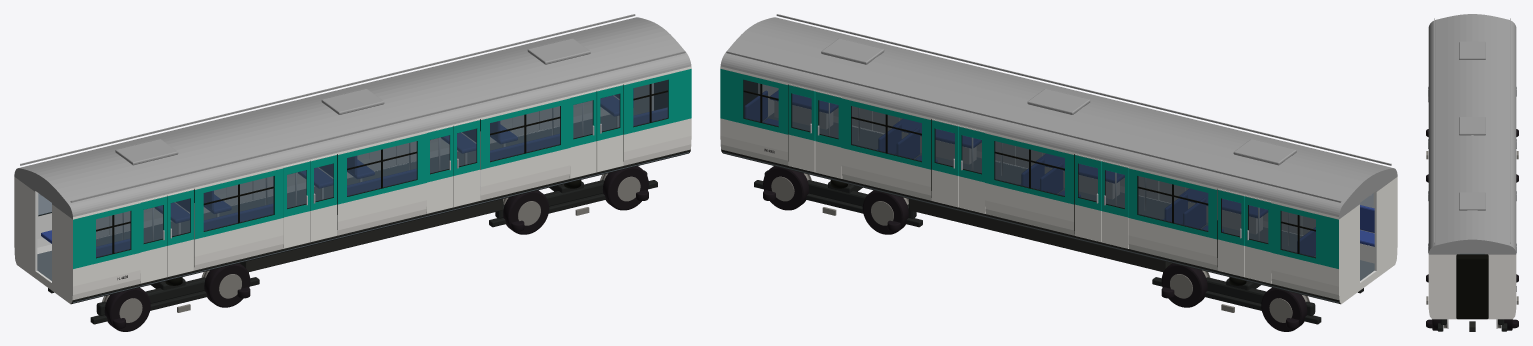
File: mp59_car.glb
3 renders of one model, left to right at view 1: azimuth 30°, elevation 25°; view 2: azimuth 150°, elevation 25°; view 3: azimuth 270°, elevation 25°, orthographic. The views are drawn at different scales.
Visible parts, largest first — view 1: METRO_MP59_L11-Reno-4voit_V2_Caisse, METRO_MP59_L11-Reno-4voit_V2_BaieG1; view 2: METRO_MP59_L11-Reno-4voit_V2_Caisse, METRO_MP59_L11-Reno-4voit_V2_BaieG1; view 3: METRO_MP59_L11-Reno-4voit_V2_Caisse.
Boxes of the visible parts, x1,y1,x2,y2 form: METRO_MP59_L11-Reno-4voit_V2_Caisse: (14,14,691,331); METRO_MP59_L11-Reno-4voit_V2_BaieG1: (38,80,667,257); METRO_MP59_L11-Reno-4voit_V2_Caisse: (720,14,1397,331); METRO_MP59_L11-Reno-4voit_V2_BaieG1: (744,80,1373,257); METRO_MP59_L11-Reno-4voit_V2_Caisse: (1426,14,1518,331).
Size of the model in its own units: 15.25 by 3.48 by 2.6.
3 materials, 1 textured.
